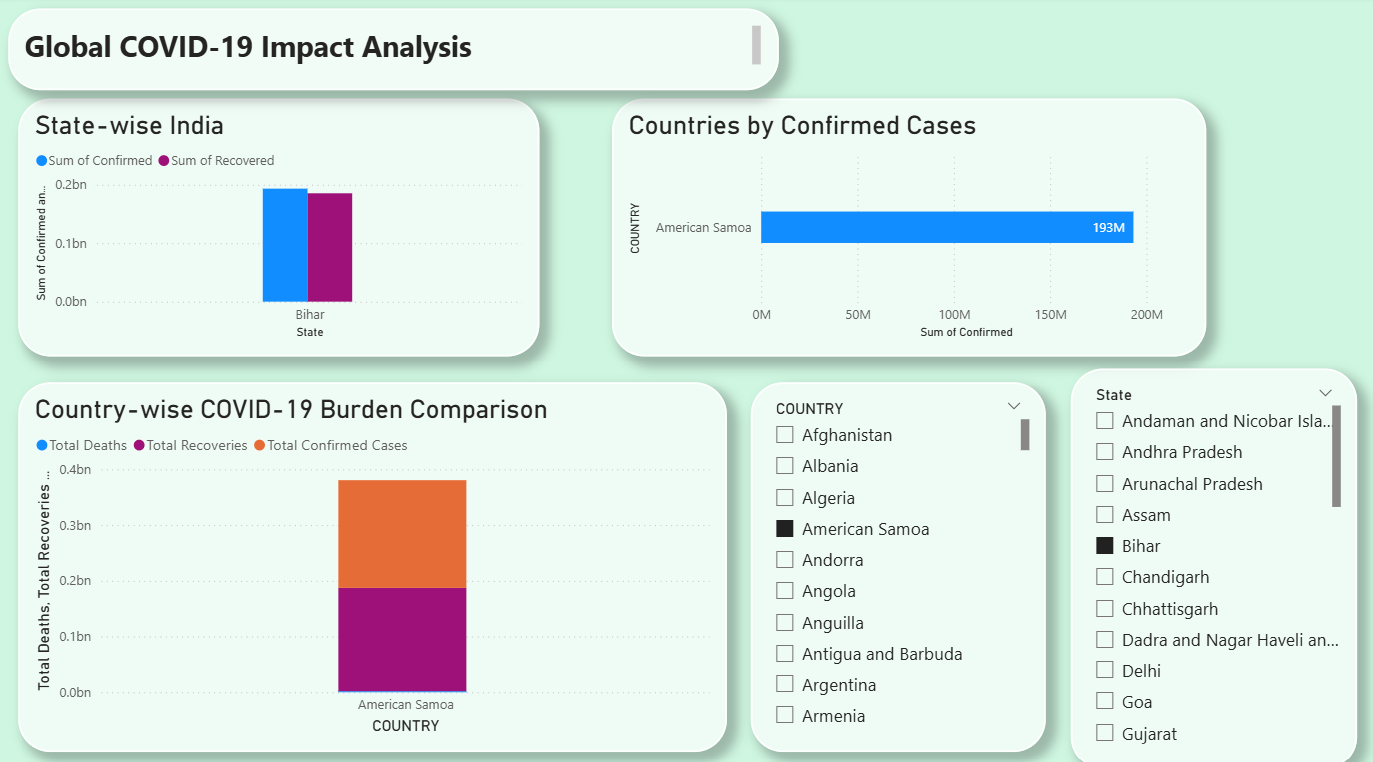

Layout of this report page (visuals, bound fields, positions):
{"tool":"powerbi","page":{"name":"Country / State Analysis","canvas":[1280,720],"ordinal":2},"visuals":[{"type":"clusteredColumnChart","title":"State-wise India","fields":{"Category":["raw_data_Indian_states.State"],"Y":["Sum(raw_data_Indian_states.Confirmed)","Sum(raw_data_Indian_states.Recovered)"]},"box":[20,95.9,484.9,239.8],"z":0},{"type":"clusteredBarChart","title":"Countries by Confirmed Cases","fields":{"Category":["vaccination-data.COUNTRY"],"Y":["Sum(raw_data_Indian_states.Confirmed)"]},"box":[571.5,95.9,552.9,239.8],"z":1},{"type":"columnChart","title":"Country-wise COVID-19 Burden Comparison","fields":{"Category":["vaccination-data.COUNTRY"],"Y":["DateTable.Total Deaths","DateTable.Total Recoveries","DateTable.Total Confirmed Cases"]},"box":[20,359.7,659.5,343.7],"z":2},{"type":"slicer","fields":{"Values":["vaccination-data.COUNTRY"]},"box":[700.8,359.7,274.4,343.7],"z":3},{"type":"slicer","fields":{"Values":["raw_data_Indian_states.State"]},"box":[999.2,346.4,266.4,373],"z":4},{"type":"textbox","box":[10.7,12,716.7,75.9],"z":5}]}

Visuals, with their boxes in screenshot pixels (x1, y1, x2, y2), scaled from the page's 1280x720 canvas onto the 1373x762 screenshot:
"State-wise India" clusteredColumnChart: 21 101 542 355
"Countries by Confirmed Cases" clusteredBarChart: 613 101 1206 355
"Country-wise COVID-19 Burden Comparison" columnChart: 21 381 729 744
slicer - vaccination-data.COUNTRY: 752 381 1046 744
slicer - raw_data_Indian_states.State: 1072 367 1358 761
textbox: 11 13 780 93
